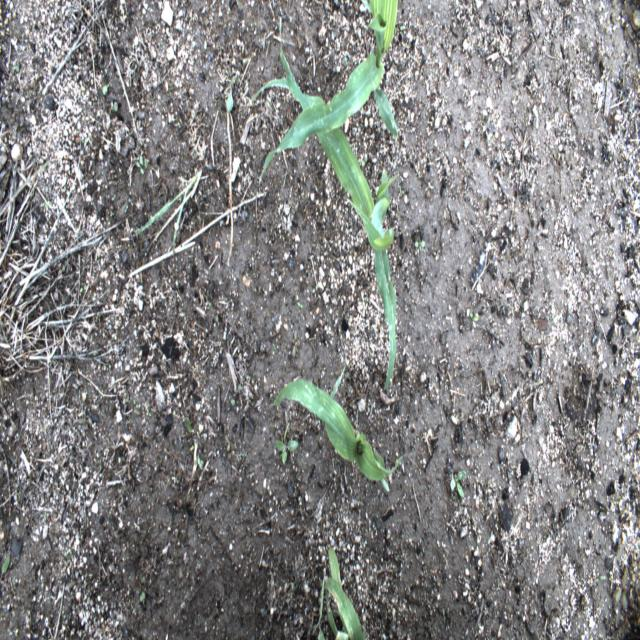crop: (248, 15, 400, 393), (259, 0, 398, 185), (268, 364, 407, 493), (324, 546, 366, 639), (318, 578, 326, 639)
weed: (136, 171, 202, 263), (184, 416, 204, 472), (273, 423, 299, 465), (615, 566, 628, 611), (449, 471, 470, 498), (226, 74, 238, 112), (102, 84, 117, 112), (135, 154, 149, 176), (230, 382, 242, 406), (1, 552, 10, 579), (292, 330, 300, 358), (224, 433, 235, 452), (139, 576, 145, 603), (469, 313, 479, 328), (414, 238, 426, 250), (361, 150, 368, 167), (11, 64, 20, 76)
